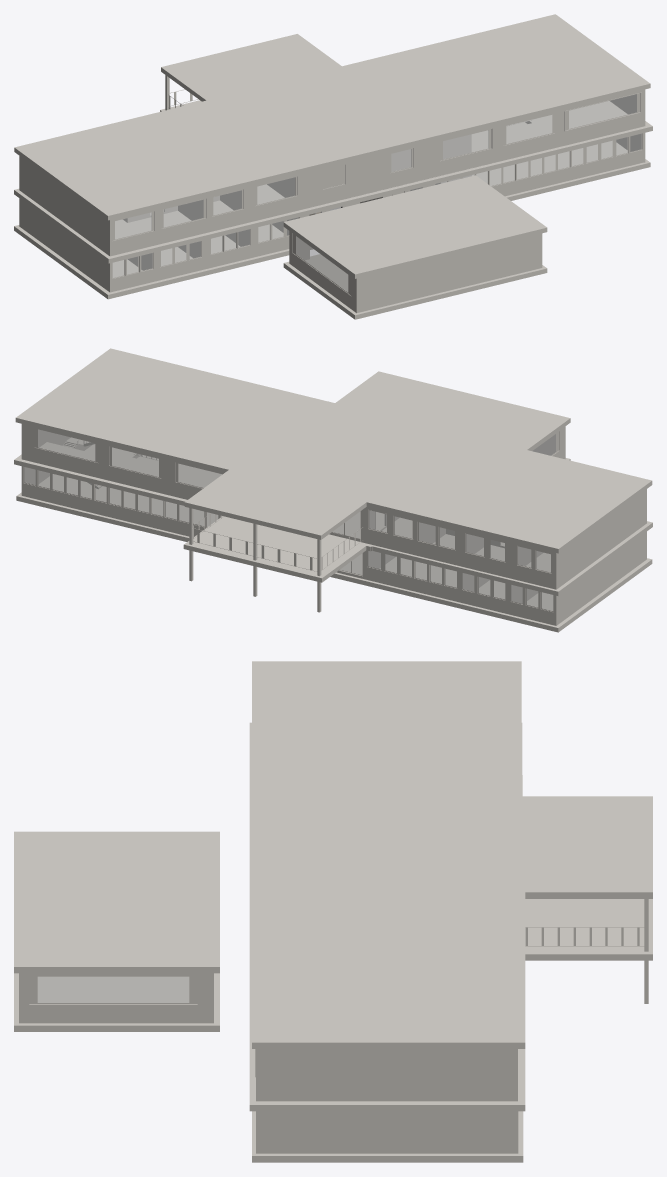
File: washroom_ladies_walk.glb
3 renders of one model, top to bottom at view 1: azimuth 30°, elevation 25°; view 2: azimuth 150°, elevation 25°; view 3: azimuth 270°, elevation 25°, orthographic. The views are drawn at different scales.
Parts seen in each view (by area): view 1: BEYOND_L2_SLAB, BEYOND_L1_WALL, BEYOND_L0_WALL, BEYOND_L0_SLAB, BEYOND_L1_SLAB, BEYOND_L1_GLASS, BEYOND_L0_GLASS, UPPER_in_zone, BEYOND_L1_FRAME, BEYOND_L0_FRAME, BEYOND_L1_OTHER, BEYOND_L0_OTHER; view 2: BEYOND_L2_SLAB, BEYOND_L1_WALL, BEYOND_L1_SLAB, BEYOND_L0_WALL, BEYOND_L0_SLAB, BEYOND_L1_GLASS, BEYOND_L0_GLASS, UPPER_in_zone, BEYOND_L1_FRAME, BEYOND_L0_FRAME, BEYOND_L1_OTHER, BEYOND_L1_STAIR (+3 smaller); view 3: BEYOND_L2_SLAB, BEYOND_L0_WALL, BEYOND_L1_WALL, BEYOND_L1_SLAB, BEYOND_L0_SLAB, UPPER_in_zone, BEYOND_L0_GLASS, BEYOND_L0_FRAME.
Boxes of the visible parts, x1=… form: BEYOND_L2_SLAB: x1=14, y1=14, x2=650, y2=278; BEYOND_L1_WALL: x1=19, y1=89, x2=645, y2=256; BEYOND_L0_WALL: x1=19, y1=133, x2=645, y2=313; BEYOND_L0_SLAB: x1=14, y1=122, x2=650, y2=319; BEYOND_L1_SLAB: x1=14, y1=100, x2=652, y2=263; BEYOND_L1_GLASS: x1=115, y1=94, x2=636, y2=238; BEYOND_L0_GLASS: x1=113, y1=134, x2=641, y2=291; UPPER_in_zone: x1=265, y1=127, x2=351, y2=189; BEYOND_L1_FRAME: x1=113, y1=93, x2=640, y2=240; BEYOND_L0_FRAME: x1=112, y1=134, x2=642, y2=295; BEYOND_L1_OTHER: x1=112, y1=89, x2=641, y2=240; BEYOND_L0_OTHER: x1=124, y1=133, x2=642, y2=295; BEYOND_L2_SLAB: x1=15, y1=348, x2=652, y2=553; BEYOND_L1_WALL: x1=21, y1=424, x2=646, y2=589; BEYOND_L1_SLAB: x1=14, y1=442, x2=652, y2=596; BEYOND_L0_WALL: x1=21, y1=426, x2=646, y2=625; BEYOND_L0_SLAB: x1=16, y1=444, x2=652, y2=632; BEYOND_L1_GLASS: x1=38, y1=429, x2=550, y2=572; BEYOND_L0_GLASS: x1=24, y1=434, x2=555, y2=610; UPPER_in_zone: x1=368, y1=422, x2=455, y2=461; BEYOND_L1_FRAME: x1=34, y1=428, x2=551, y2=573; BEYOND_L0_FRAME: x1=23, y1=431, x2=558, y2=611; BEYOND_L1_OTHER: x1=34, y1=428, x2=551, y2=573; BEYOND_L1_STAIR: x1=136, y1=454, x2=500, y2=570; BEYOND_L2_SLAB: x1=14, y1=661, x2=652, y2=1048; BEYOND_L0_WALL: x1=19, y1=973, x2=518, y2=1153; BEYOND_L1_WALL: x1=256, y1=1049, x2=517, y2=1101; BEYOND_L1_SLAB: x1=249, y1=722, x2=652, y2=1111; BEYOND_L0_SLAB: x1=14, y1=775, x2=523, y2=1162; UPPER_in_zone: x1=256, y1=798, x2=363, y2=834; BEYOND_L0_GLASS: x1=38, y1=977, x2=188, y2=1002; BEYOND_L0_FRAME: x1=29, y1=976, x2=197, y2=1003.
Bounding box in the file's own units: 38.22 × 5.6 × 27.
11 materials, 8 textured.
